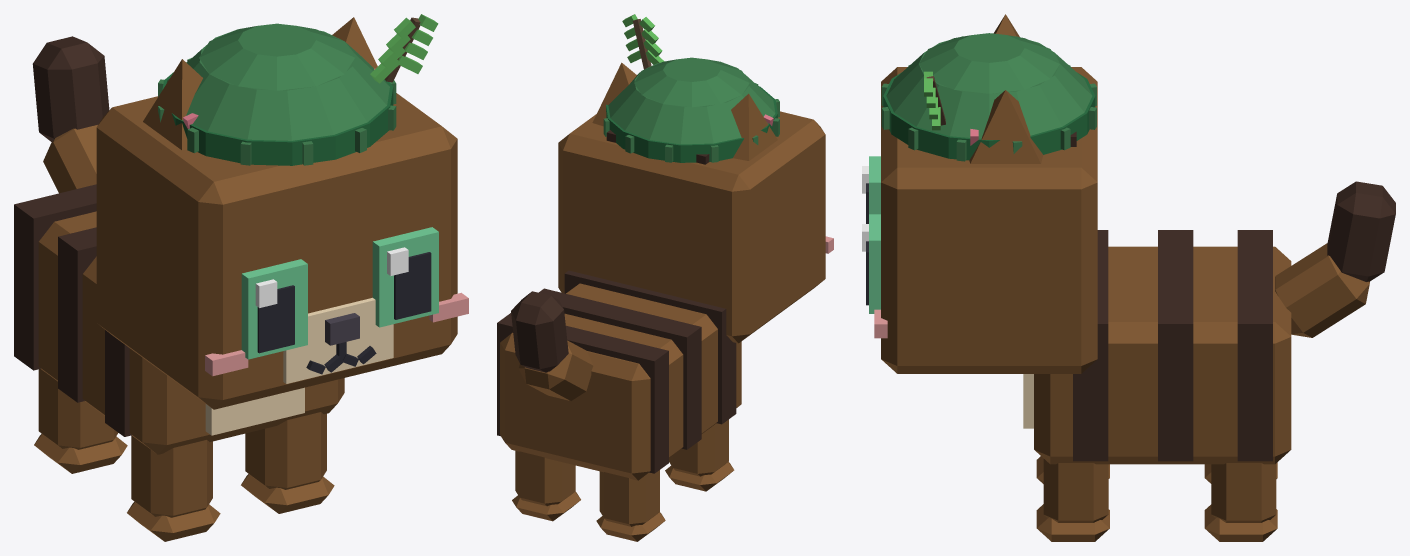
File: CatCafe_Cat_Spruce.glb
3 views of the same model, side by side, from view 1: azimuth 30°, elevation 25°; view 2: azimuth 150°, elevation 25°; view 3: azimuth 270°, elevation 25° (orthographic). The views are drawn at different scales.
Visible parts, largest first — view 1: CatCafe_Cat_Spruce_Head, CatCafe_Cat_Spruce_Body, CatCafe_Cat_Spruce_Prop, CatCafe_Cat_Spruce_Tail, CatCafe_Cat_Spruce_LegF2, CatCafe_Cat_Spruce_LegF1, CatCafe_Cat_Spruce_Eye2, CatCafe_Cat_Spruce_Eye1, CatCafe_Cat_Spruce_LegB2, CatCafe_Cat_Spruce_EarR, CatCafe_Cat_Spruce_EarL; view 2: CatCafe_Cat_Spruce_Head, CatCafe_Cat_Spruce_Body, CatCafe_Cat_Spruce_Prop, CatCafe_Cat_Spruce_Tail, CatCafe_Cat_Spruce_LegB2, CatCafe_Cat_Spruce_LegB1, CatCafe_Cat_Spruce_LegF2, CatCafe_Cat_Spruce_EarR, CatCafe_Cat_Spruce_EarL; view 3: CatCafe_Cat_Spruce_Body, CatCafe_Cat_Spruce_Head, CatCafe_Cat_Spruce_Prop, CatCafe_Cat_Spruce_Tail, CatCafe_Cat_Spruce_LegF1, CatCafe_Cat_Spruce_LegB1, CatCafe_Cat_Spruce_EarL, CatCafe_Cat_Spruce_Eye1, CatCafe_Cat_Spruce_Eye2.
Part boxes in pixels (bbox=[...]): CatCafe_Cat_Spruce_Head: bbox=[96, 93, 468, 409]; CatCafe_Cat_Spruce_Body: bbox=[14, 184, 344, 454]; CatCafe_Cat_Spruce_Prop: bbox=[158, 14, 438, 165]; CatCafe_Cat_Spruce_Tail: bbox=[32, 36, 109, 193]; CatCafe_Cat_Spruce_LegF2: bbox=[127, 435, 220, 541]; CatCafe_Cat_Spruce_LegF1: bbox=[241, 412, 334, 513]; CatCafe_Cat_Spruce_Eye2: bbox=[241, 259, 307, 359]; CatCafe_Cat_Spruce_Eye1: bbox=[372, 227, 438, 327]; CatCafe_Cat_Spruce_LegB2: bbox=[34, 369, 127, 473]; CatCafe_Cat_Spruce_EarR: bbox=[143, 59, 202, 150]; CatCafe_Cat_Spruce_EarL: bbox=[332, 17, 377, 69]; CatCafe_Cat_Spruce_Head: bbox=[558, 111, 833, 343]; CatCafe_Cat_Spruce_Body: bbox=[497, 270, 741, 480]; CatCafe_Cat_Spruce_Prop: bbox=[603, 14, 779, 162]; CatCafe_Cat_Spruce_Tail: bbox=[511, 291, 593, 400]; CatCafe_Cat_Spruce_LegB2: bbox=[596, 470, 665, 541]; CatCafe_Cat_Spruce_LegB1: bbox=[512, 451, 580, 521]; CatCafe_Cat_Spruce_LegF2: bbox=[665, 419, 734, 491]; CatCafe_Cat_Spruce_EarR: bbox=[731, 93, 777, 160]; CatCafe_Cat_Spruce_EarL: bbox=[592, 62, 636, 126]; CatCafe_Cat_Spruce_Body: bbox=[1023, 230, 1291, 464]; CatCafe_Cat_Spruce_Head: bbox=[874, 67, 1097, 373]; CatCafe_Cat_Spruce_Prop: bbox=[881, 33, 1096, 161]; CatCafe_Cat_Spruce_Tail: bbox=[1275, 181, 1395, 337]; CatCafe_Cat_Spruce_LegF1: bbox=[1036, 459, 1109, 541]; CatCafe_Cat_Spruce_LegB1: bbox=[1204, 463, 1277, 541]; CatCafe_Cat_Spruce_EarL: bbox=[969, 90, 1043, 163]; CatCafe_Cat_Spruce_Eye1: bbox=[862, 214, 880, 313]; CatCafe_Cat_Spruce_Eye2: bbox=[862, 156, 880, 223].
Size of the model in its own units: 1 by 1.95 by 1.97.
Materials: 1 (1 with a texture image).
